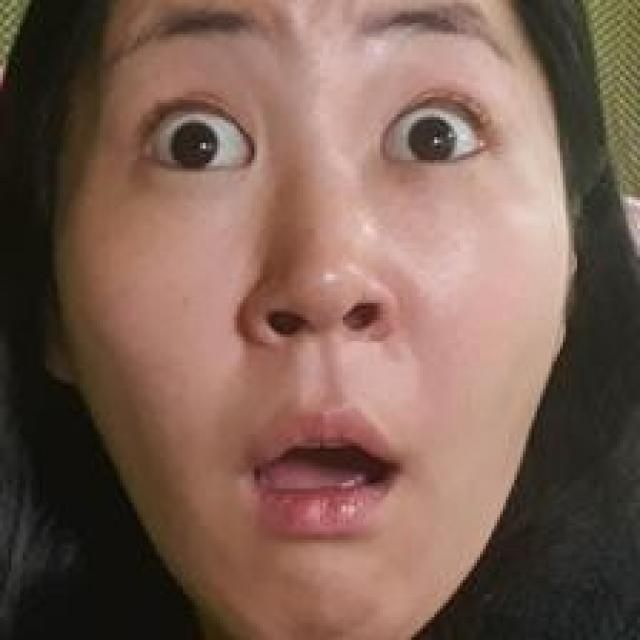fear: (104, 11, 539, 576)
